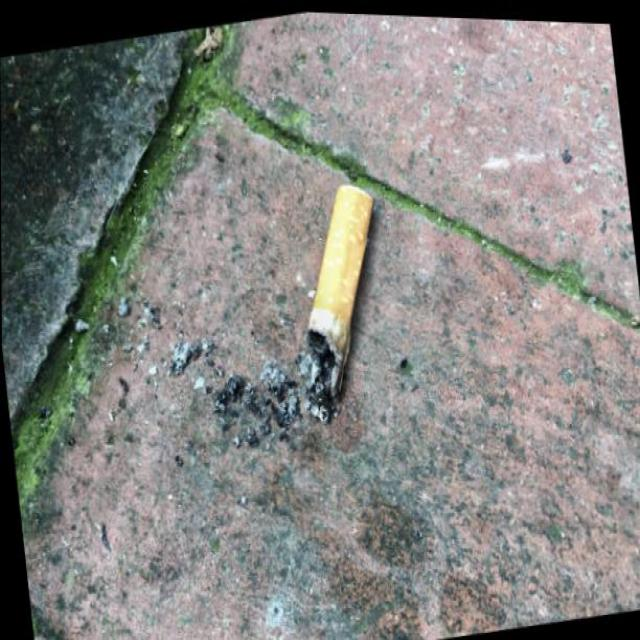cigarette: (285, 168, 395, 391)
